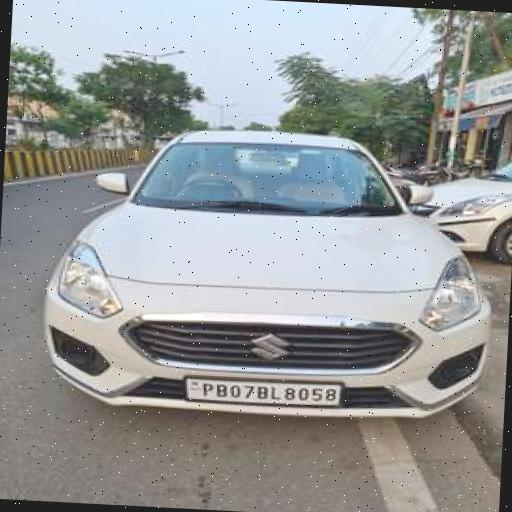license_plate`: (184, 376, 338, 405)
